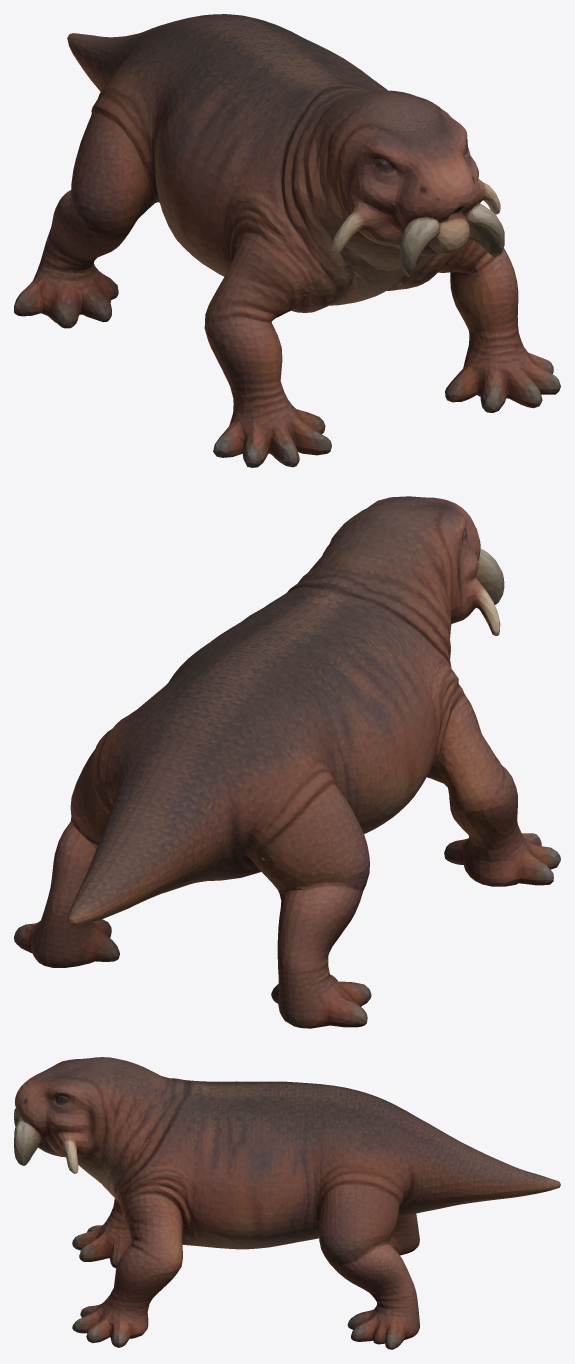
The picture shows the model from 3 angles, top to bottom: view 1: azimuth 30°, elevation 25°; view 2: azimuth 150°, elevation 25°; view 3: azimuth 270°, elevation 25°; orthographic projection. The views are drawn at different scales.
Parts seen in each view (by area): view 1: world; view 2: world; view 3: world.
Boxes of the visible parts, x1,y1,x2,y2 form: world: (14, 14, 560, 467); world: (14, 496, 560, 1028); world: (14, 1057, 560, 1349).
Bounding box in the file's own units: 0.5258 × 0.4625 × 1.
Materials: 6 (1 with a texture image).
